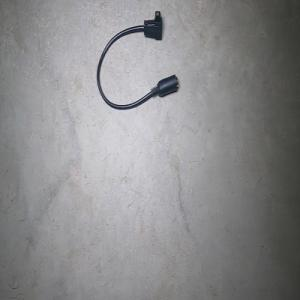Wire: (96, 10, 178, 110)
